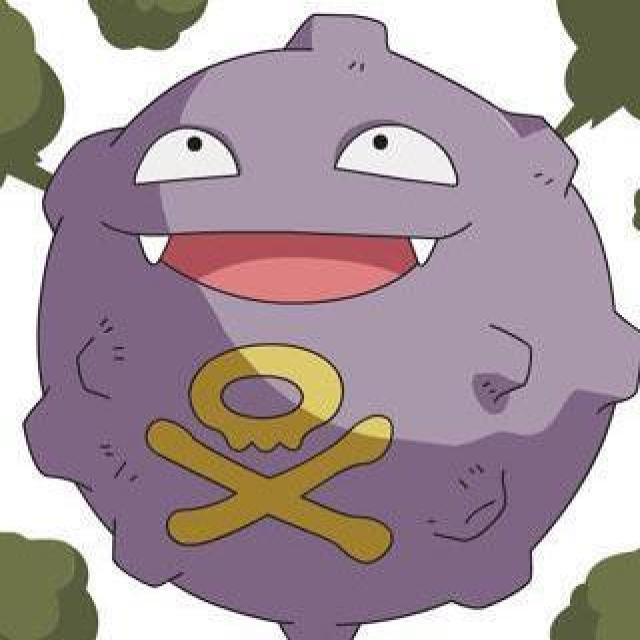Koffing: (47, 16, 579, 615)
